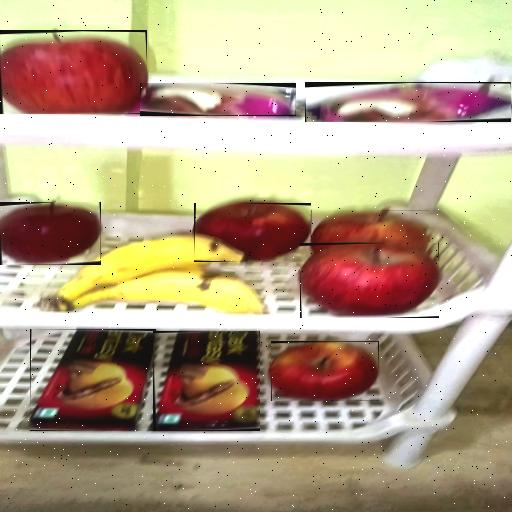Apple: (0, 30, 147, 114), (300, 243, 439, 318), (194, 203, 311, 262), (271, 341, 379, 401), (0, 202, 101, 265), (311, 210, 429, 256)
Choco Fills: (30, 329, 156, 431), (153, 331, 260, 431)
Choco Pie: (305, 82, 511, 122), (140, 83, 296, 116)
